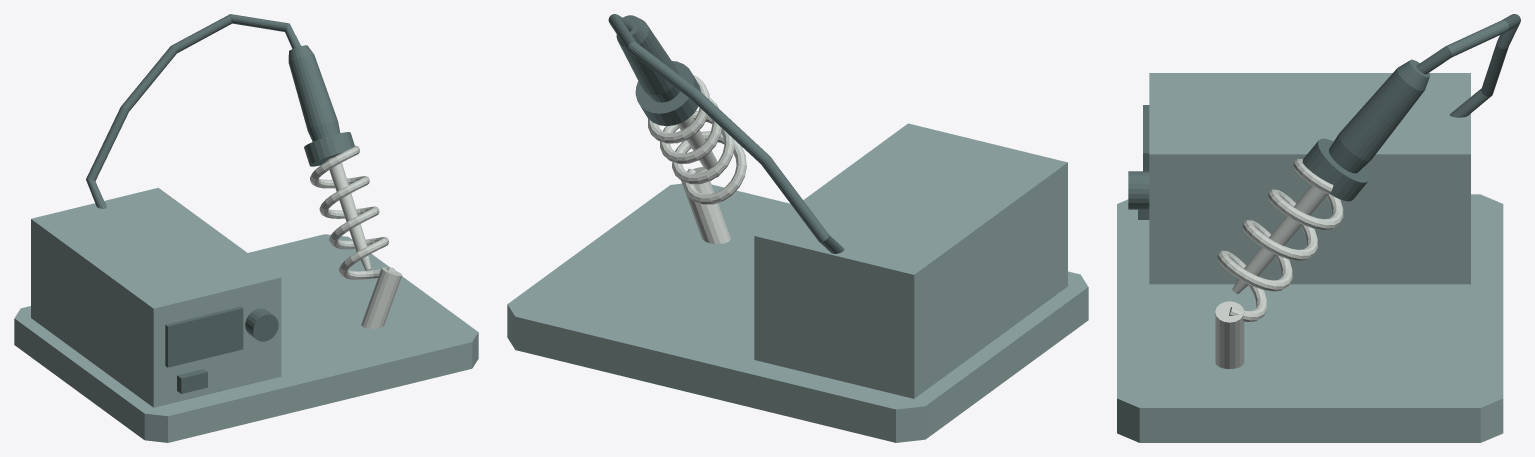
3 renders of one model, left to right at view 1: azimuth 30°, elevation 25°; view 2: azimuth 150°, elevation 25°; view 3: azimuth 270°, elevation 25°, orthographic. The views are drawn at different scales.
Parts seen in each view (by area): view 1: WholeLeftControlHousing, WholeCommonStationBase, WholeBlankOpaqueFrontPanel, WholeContinuousAttachedIronCord, WholeFiniteOpenInclinedRestCoil, WholeParkedIronGrip, WholeRestMountStem, WholeIronGripFrontStop, WholeParkedIronShaft, WholeFrontControlKnob, WholePlainFrontSwitch; view 2: WholeLeftControlHousing, WholeCommonStationBase, WholeFiniteOpenInclinedRestCoil, WholeContinuousAttachedIronCord, WholeParkedIronGrip, WholeIronGripFrontStop, WholeRestMountStem; view 3: WholeCommonStationBase, WholeLeftControlHousing, WholeFiniteOpenInclinedRestCoil, WholeParkedIronGrip, WholeContinuousAttachedIronCord, WholeIronGripFrontStop, WholeRestMountStem, WholeParkedIronShaft, WholeFrontControlKnob, WholeBlankOpaqueFrontPanel.
Boxes of the visible parts, x1=… form: WholeLeftControlHousing: x1=31, y1=187, x2=281, y2=407; WholeCommonStationBase: x1=14, y1=234, x2=478, y2=442; WholeBlankOpaqueFrontPanel: x1=165, y1=306, x2=243, y2=367; WholeContinuousAttachedIronCord: x1=86, y1=14, x2=300, y2=208; WholeFiniteOpenInclinedRestCoil: x1=310, y1=145, x2=395, y2=279; WholeParkedIronGrip: x1=288, y1=45, x2=340, y2=141; WholeRestMountStem: x1=361, y1=267, x2=402, y2=328; WholeIronGripFrontStop: x1=304, y1=132, x2=354, y2=166; WholeParkedIronShaft: x1=326, y1=158, x2=367, y2=252; WholeFrontControlKnob: x1=245, y1=308, x2=278, y2=341; WholePlainFrontSwitch: x1=177, y1=369, x2=207, y2=393; WholeLeftControlHousing: x1=754, y1=123, x2=1067, y2=398; WholeCommonStationBase: x1=507, y1=183, x2=1088, y2=442; WholeFiniteOpenInclinedRestCoil: x1=648, y1=75, x2=746, y2=204; WholeContinuousAttachedIronCord: x1=608, y1=14, x2=844, y2=253; WholeParkedIronGrip: x1=616, y1=15, x2=679, y2=102; WholeIronGripFrontStop: x1=635, y1=61, x2=701, y2=126; WholeRestMountStem: x1=681, y1=167, x2=730, y2=243; WholeCommonStationBase: x1=1117, y1=194, x2=1503, y2=442; WholeLeftControlHousing: x1=1149, y1=73, x2=1470, y2=284; WholeFiniteOpenInclinedRestCoil: x1=1217, y1=158, x2=1343, y2=321; WholeParkedIronGrip: x1=1328, y1=59, x2=1429, y2=173; WholeContinuousAttachedIronCord: x1=1416, y1=14, x2=1520, y2=117; WholeIronGripFrontStop: x1=1302, y1=138, x2=1369, y2=201; WholeRestMountStem: x1=1215, y1=301, x2=1244, y2=368; WholeParkedIronShaft: x1=1244, y1=185, x2=1327, y2=276; WholeFrontControlKnob: x1=1128, y1=171, x2=1149, y2=209; WholeBlankOpaqueFrontPanel: x1=1143, y1=105, x2=1149, y2=171.
Bounding box in the file's own units: 0.314 × 0.2419 × 0.2509.
